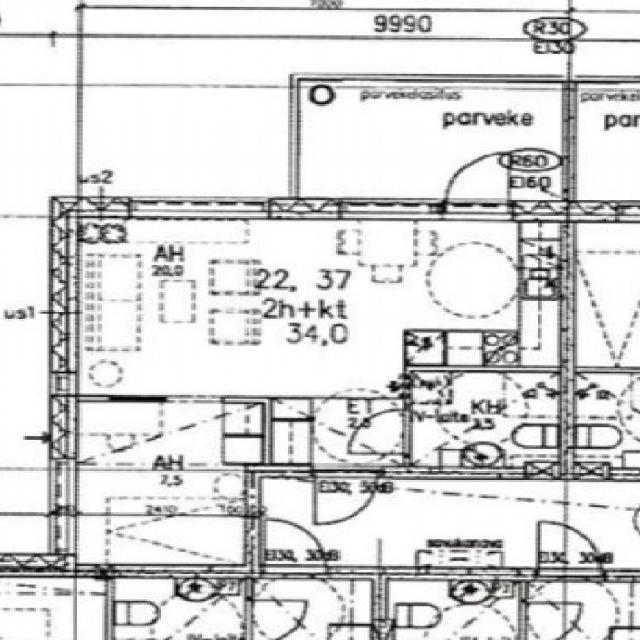door: (443, 142, 509, 218), (314, 464, 377, 532), (347, 408, 411, 454)
